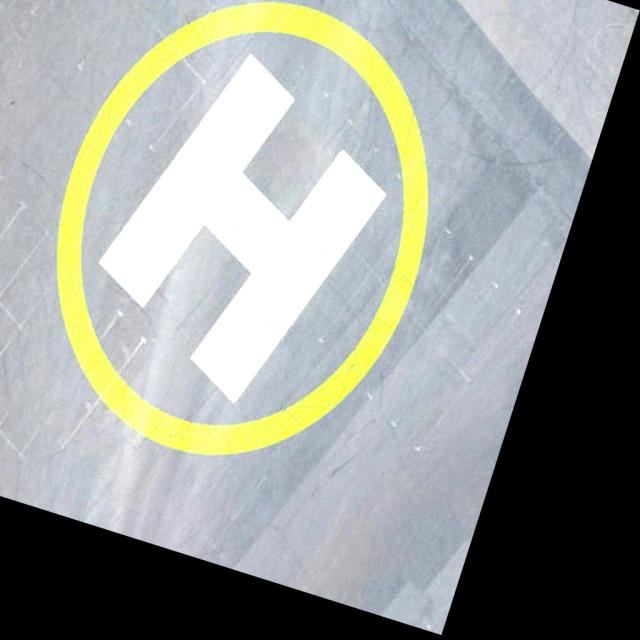helipad: (51, 0, 433, 457)
